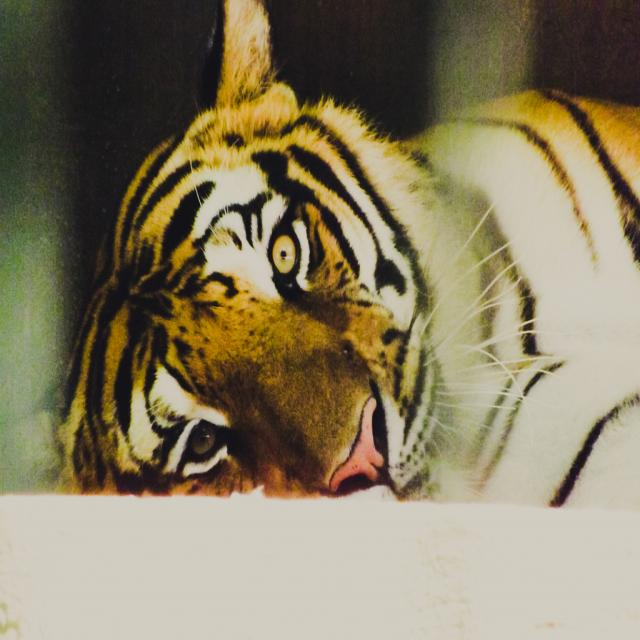Tiger: (57, 0, 640, 505)
